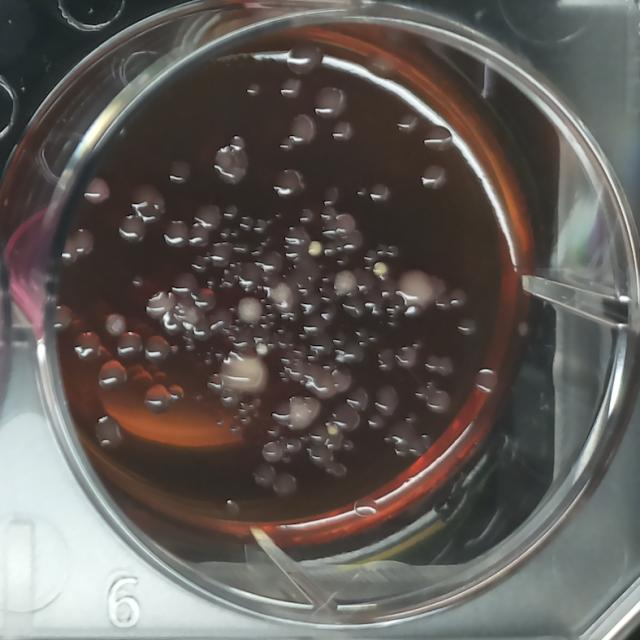Staphylococcus: (304, 236, 325, 260), (371, 258, 391, 279), (253, 338, 270, 358), (324, 420, 341, 439)
